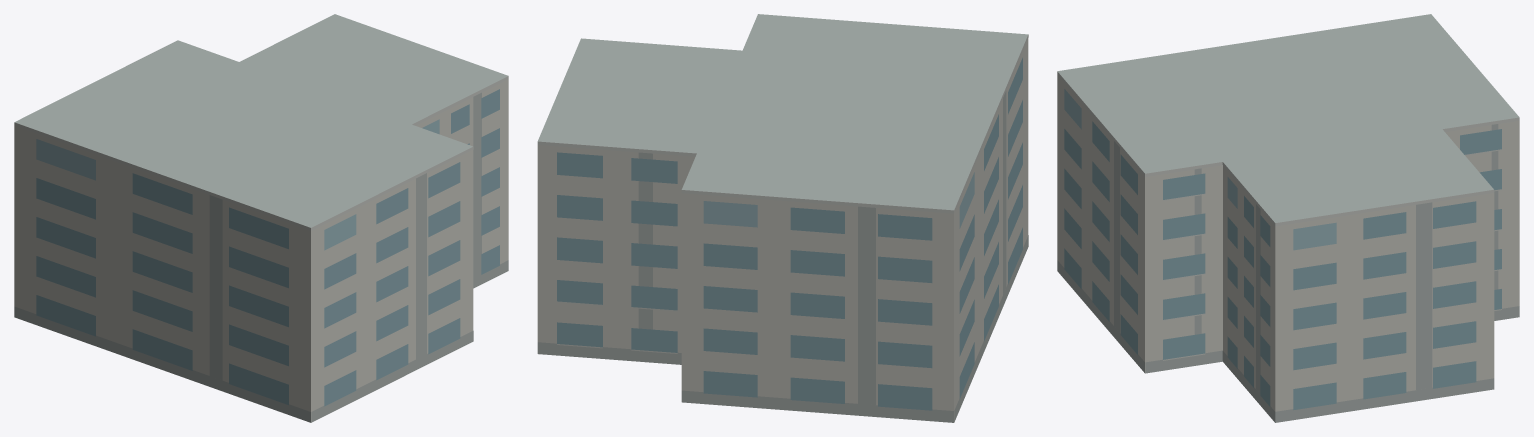
File: residential-aa99a2bc-f6ce-4398-89fe-c4f4d7aa631e.glb
3 views of the same model, side by side, from view 1: azimuth 30°, elevation 25°; view 2: azimuth 150°, elevation 25°; view 3: azimuth 270°, elevation 25° (orthographic). The views are drawn at different scales.
Visible parts, largest first — view 1: residential-aa99a2bc-f6ce-4398-89fe-c4f4d7aa631e.tmp; view 2: residential-aa99a2bc-f6ce-4398-89fe-c4f4d7aa631e.tmp; view 3: residential-aa99a2bc-f6ce-4398-89fe-c4f4d7aa631e.tmp.
Part boxes in pixels (<box>): residential-aa99a2bc-f6ce-4398-89fe-c4f4d7aa631e.tmp: <box>14,14,508,422</box>; residential-aa99a2bc-f6ce-4398-89fe-c4f4d7aa631e.tmp: <box>537,14,1028,422</box>; residential-aa99a2bc-f6ce-4398-89fe-c4f4d7aa631e.tmp: <box>1057,14,1519,422</box>.
Size of the model in its own units: 34.26 by 15.25 by 32.
